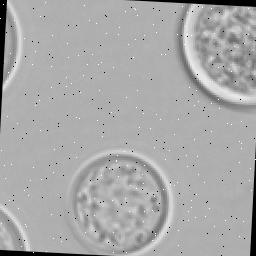picoshell: (68, 150, 174, 256), (183, 5, 256, 107), (4, 2, 23, 91), (0, 203, 29, 251)
